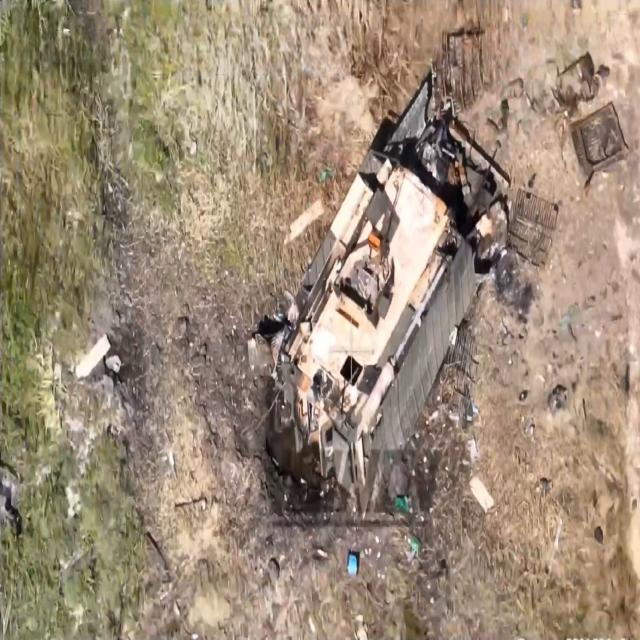Destroyed: (286, 86, 508, 517)
